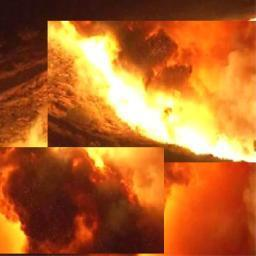Heavy smoke: (50, 22, 256, 143), (0, 148, 165, 253)
